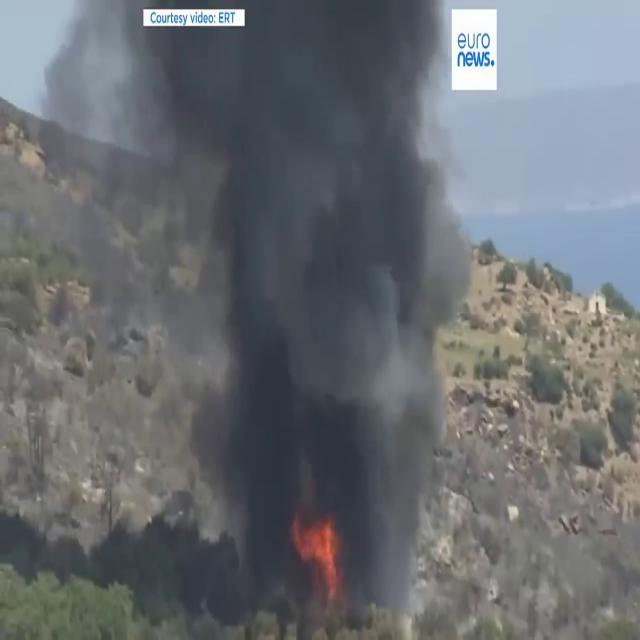Smoke: (172, 1, 487, 618)
